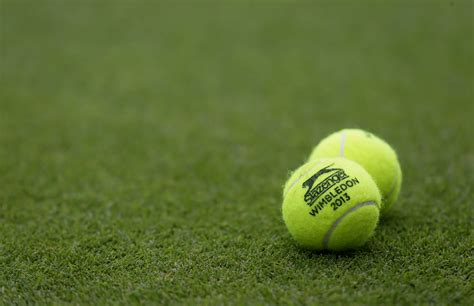tennis_ball: (281, 157, 382, 250), (306, 128, 403, 218)
